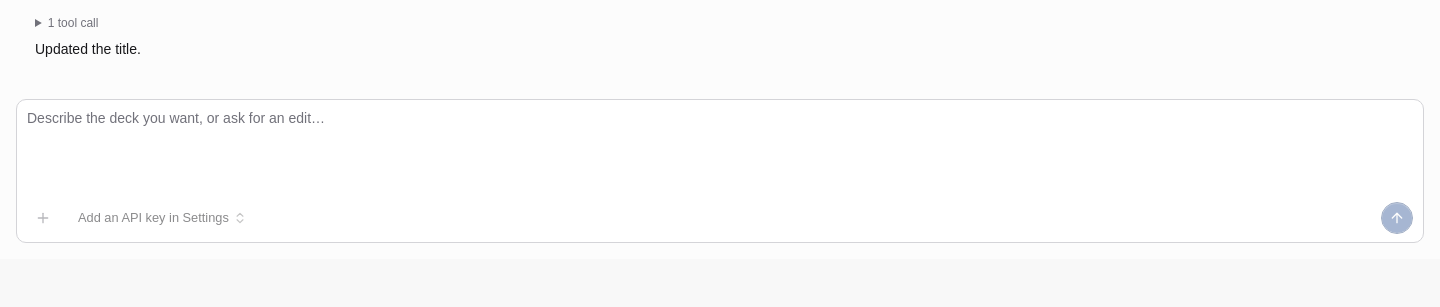
Test: ChatPanel submit control › collapses a single tool call by default
Expected: the text "Updated slide 1" is not shown
Click the heading "1 tool call" at (73, 23), box [48,16,98,30]
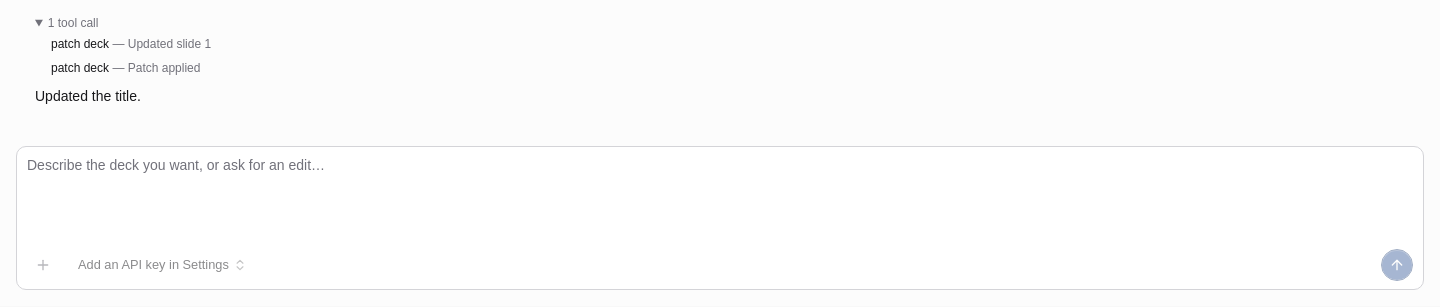
Expected: the text "— Updated slide 1" is shown, [109,37,211,51]
